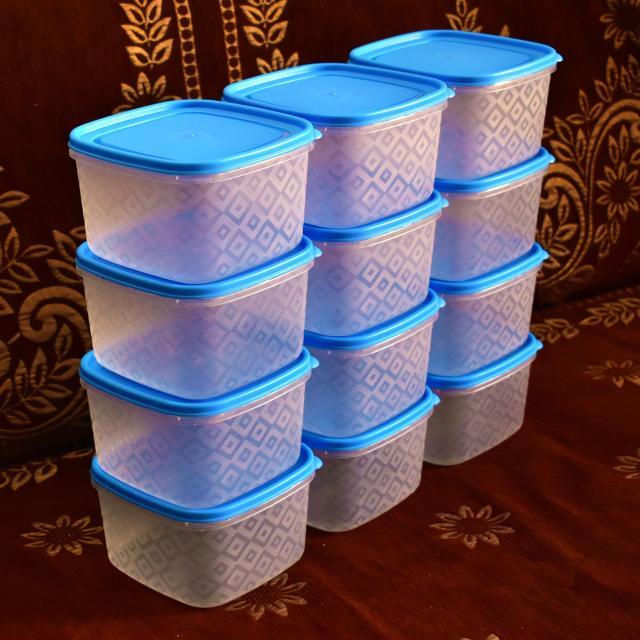plastic_box: (66, 19, 595, 623), (61, 81, 325, 310), (61, 222, 326, 421)
